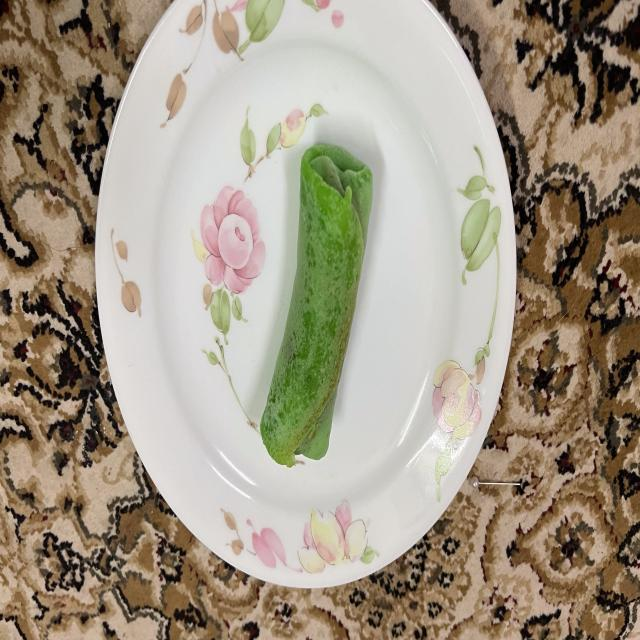Kuih-Ketayap: (260, 144, 371, 467)
